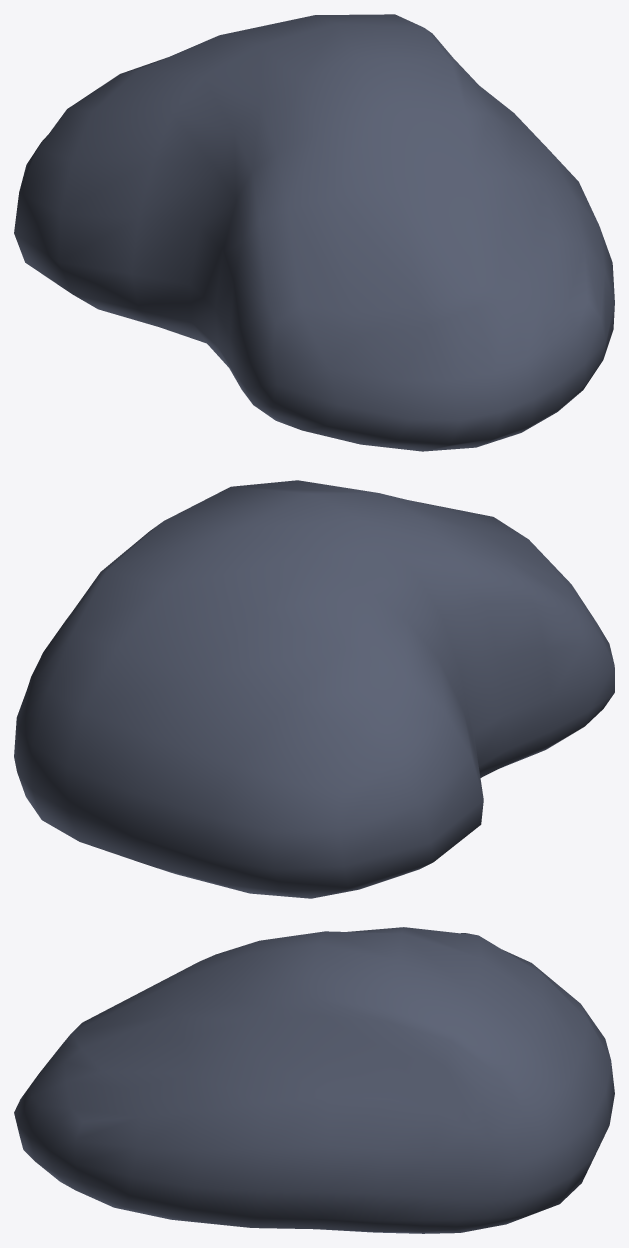
The model's file is Stone03.FBX.
3 views of the same model, one above another, from view 1: azimuth 30°, elevation 25°; view 2: azimuth 150°, elevation 25°; view 3: azimuth 270°, elevation 25° (orthographic). The views are drawn at different scales.
Parts seen in each view (by area): view 1: StoneLarge; view 2: StoneLarge; view 3: StoneLarge.
Part boxes in pixels (<box>): StoneLarge: <box>14,14,614,451</box>; StoneLarge: <box>14,480,614,898</box>; StoneLarge: <box>14,927,614,1233</box>.
Bounding box in the file's own units: 113 × 65.87 × 157.
